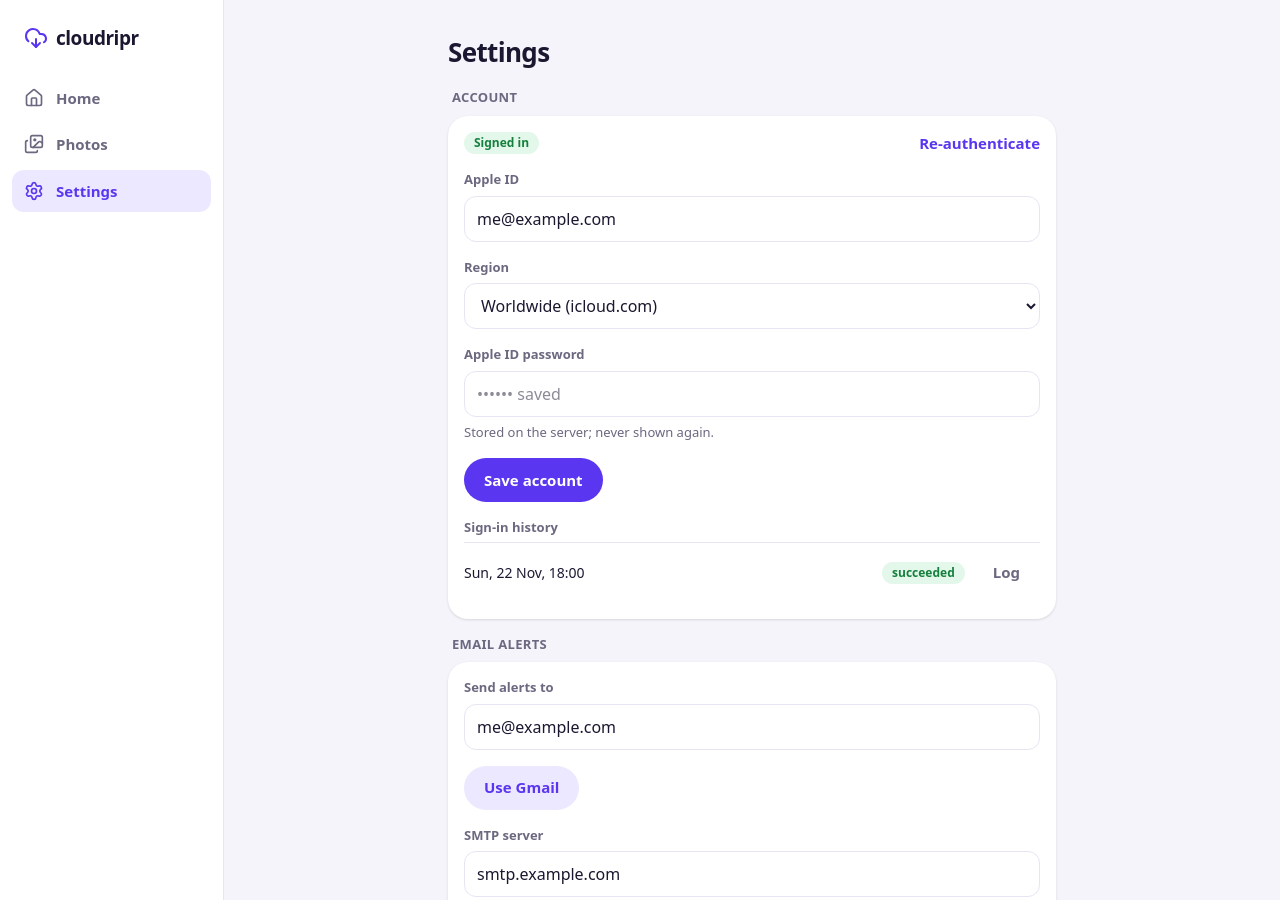
Scenario: sign-in history lists attempts with outcome
The image size is (1280, 900).
Expected: the text "succeeded" is shown, [882,562,965,584]
What coordinates should you click on to do the following:
click the button "Log"
I would click on:
 (1006, 572)
Its box is [973,550,1040,594].
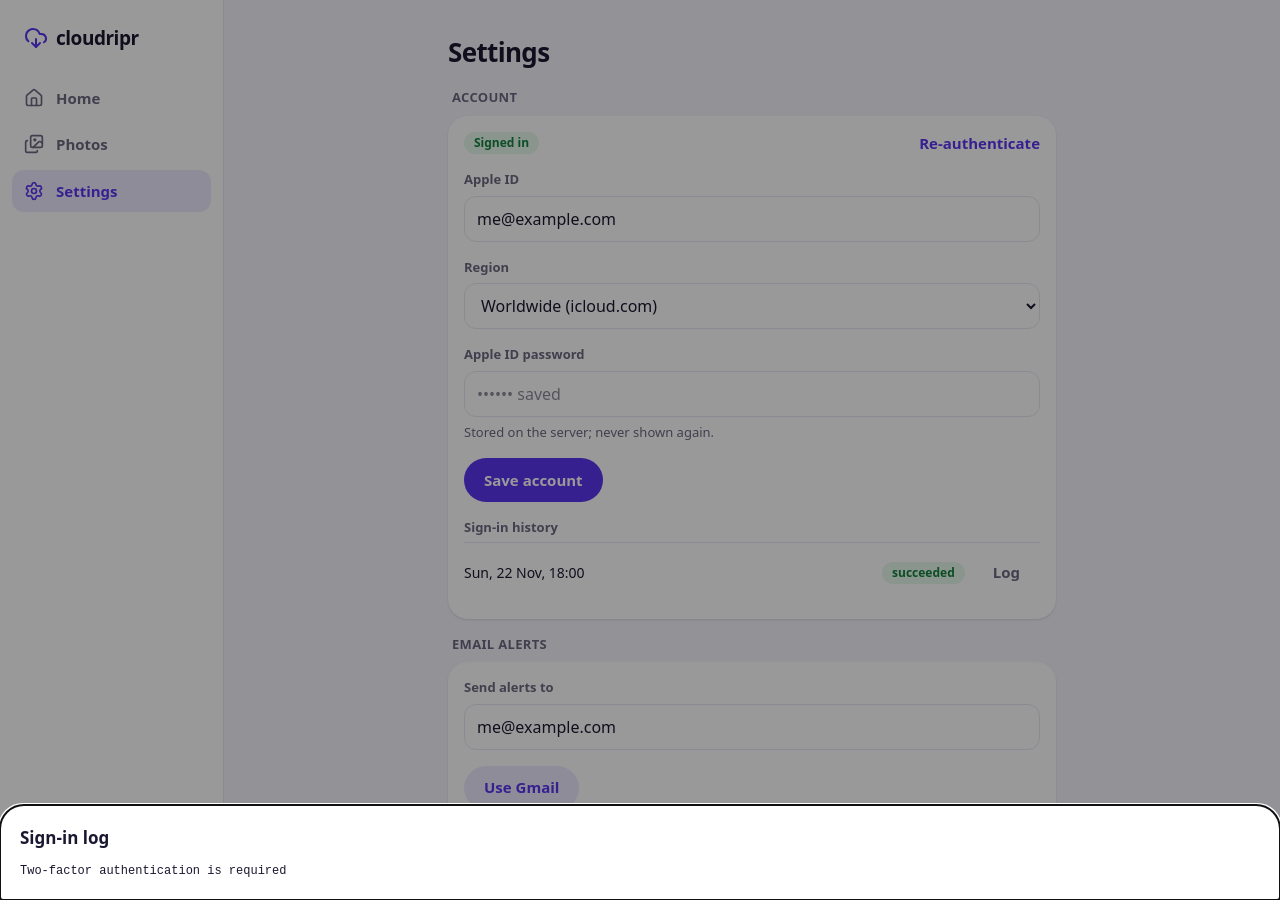
Now the text "Two-factor authentication is required" is shown, box [20,864,286,878]
